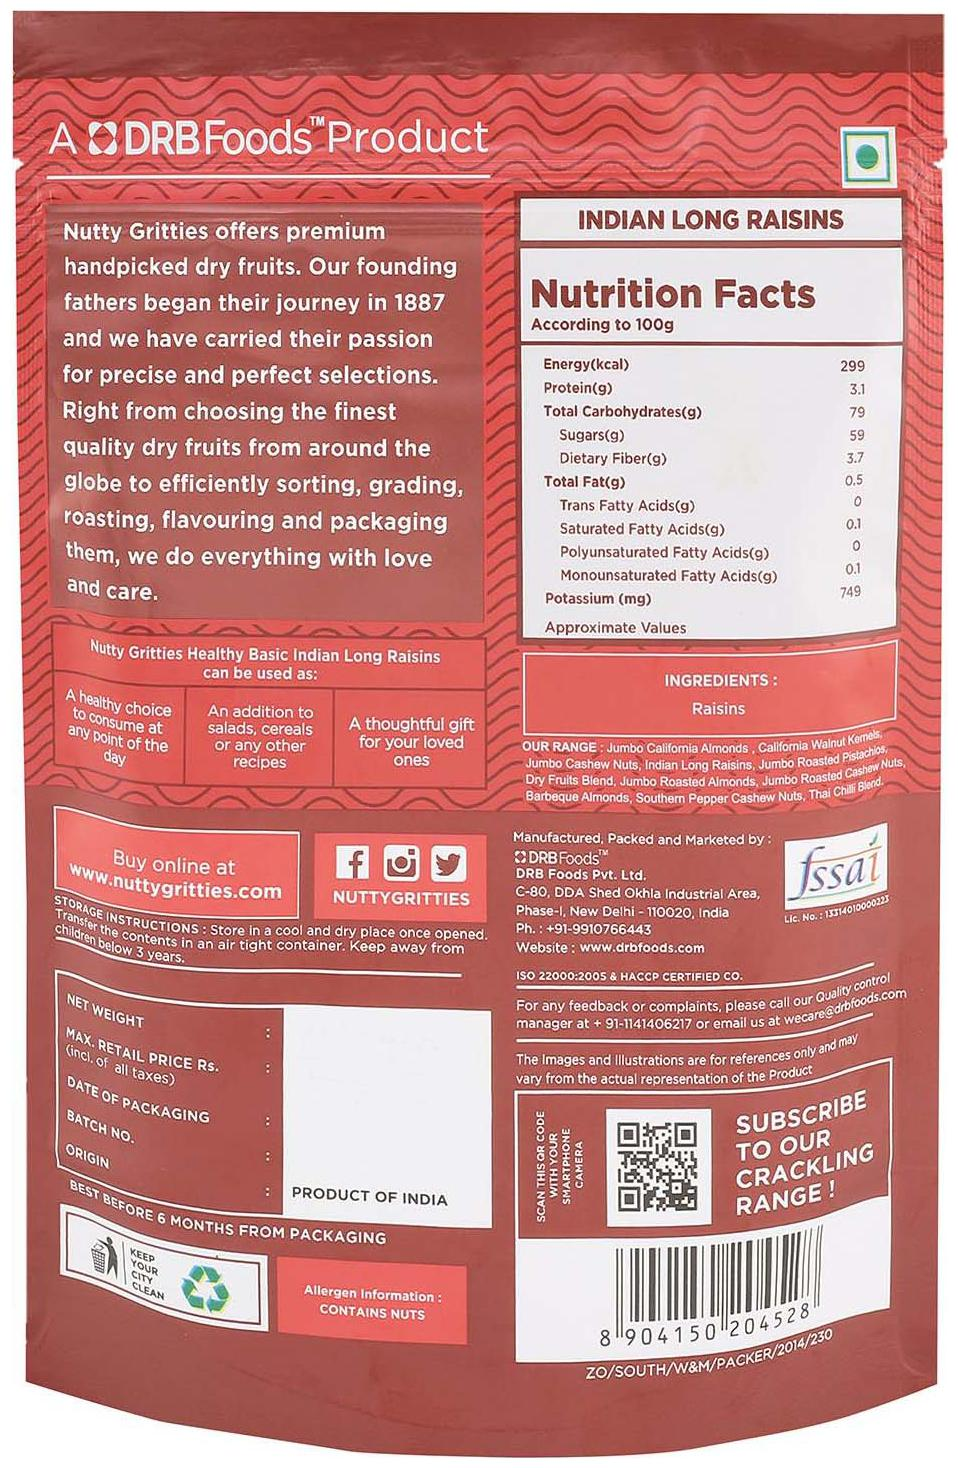fssai: (787, 828, 885, 902)
